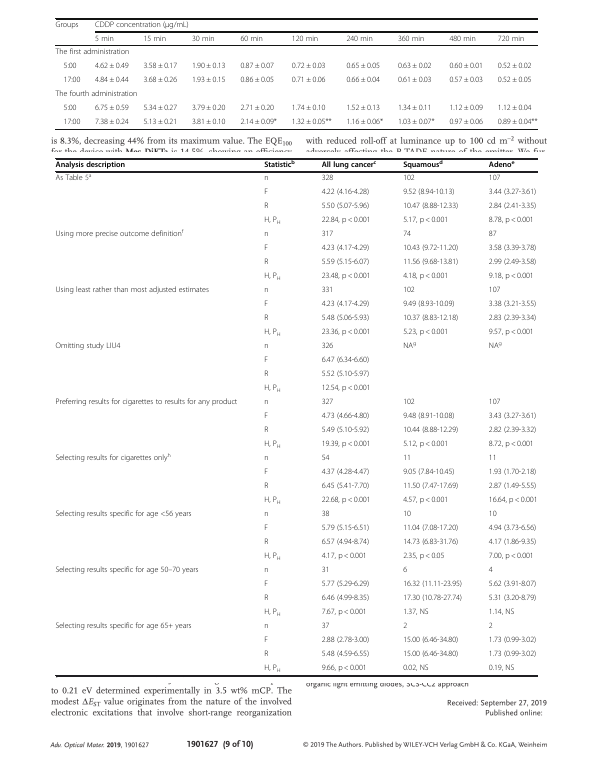borderless: (54, 157, 537, 675), (54, 17, 538, 129)
cell: (55, 398, 238, 408), (55, 286, 210, 296), (55, 228, 184, 240), (55, 566, 199, 576), (55, 452, 172, 464), (55, 510, 192, 520), (55, 622, 192, 632), (94, 21, 190, 30), (55, 89, 138, 99), (55, 47, 130, 57), (55, 342, 121, 352), (55, 161, 126, 170), (321, 159, 377, 170), (402, 580, 463, 590), (402, 594, 463, 604), (402, 202, 459, 212), (402, 244, 459, 254), (402, 258, 459, 268), (402, 314, 459, 324), (402, 426, 459, 436), (402, 482, 459, 492), (402, 524, 459, 534), (402, 538, 459, 548), (402, 636, 459, 646), (402, 650, 459, 660), (402, 188, 455, 198), (402, 300, 455, 310), (402, 412, 455, 422), (402, 468, 455, 478), (321, 216, 371, 226), (321, 272, 371, 282), (321, 328, 371, 338), (321, 384, 371, 394), (321, 440, 371, 450), (321, 496, 371, 506), (488, 496, 538, 506), (321, 188, 370, 198), (488, 188, 537, 198), (321, 202, 370, 212), (488, 202, 537, 212), (321, 244, 370, 254), (488, 244, 537, 254), (321, 258, 370, 268), (488, 258, 537, 268), (321, 300, 370, 310), (488, 300, 537, 310), (321, 314, 370, 324), (488, 314, 537, 324), (321, 356, 370, 366), (321, 370, 370, 380), (321, 412, 370, 422), (488, 412, 537, 422), (321, 426, 370, 436), (488, 426, 537, 436), (321, 468, 370, 478), (488, 468, 537, 478), (321, 482, 370, 492), (488, 482, 537, 492), (321, 524, 370, 534), (488, 524, 537, 534), (321, 538, 370, 548), (488, 538, 537, 548), (321, 580, 370, 590), (488, 580, 537, 590), (321, 594, 370, 604), (488, 594, 537, 604), (321, 636, 370, 646), (488, 636, 537, 646), (321, 650, 370, 660), (488, 650, 537, 660), (402, 216, 449, 226), (488, 216, 535, 226), (402, 272, 449, 282), (488, 272, 535, 282), (402, 328, 449, 338), (488, 328, 535, 338), (402, 440, 449, 450), (488, 440, 535, 450), (402, 496, 449, 506), (321, 552, 368, 562), (488, 552, 535, 562), (321, 608, 368, 618), (321, 664, 368, 674), (402, 159, 444, 170), (55, 172, 92, 184), (402, 552, 445, 562), (291, 117, 332, 127), (497, 117, 538, 127), (239, 117, 278, 127), (345, 117, 384, 127), (397, 117, 435, 127), (263, 159, 296, 170), (94, 61, 130, 71), (142, 61, 178, 71), (239, 61, 275, 71), (345, 61, 381, 71), (448, 61, 484, 71), (94, 75, 130, 85), (142, 75, 178, 85), (239, 75, 275, 85), (345, 75, 381, 85), (448, 75, 484, 85), (94, 103, 130, 113), (142, 103, 178, 113), (239, 103, 275, 113), (345, 103, 381, 113), (448, 103, 484, 113), (94, 117, 130, 127), (142, 117, 178, 127), (448, 117, 484, 127), (191, 61, 226, 71), (291, 61, 326, 71), (397, 61, 432, 71), (497, 61, 532, 71), (191, 75, 226, 85), (291, 75, 326, 85), (397, 75, 432, 85), (497, 75, 532, 85), (191, 103, 226, 113), (291, 103, 326, 113), (397, 103, 432, 113), (497, 103, 532, 113), (191, 117, 226, 127), (488, 159, 515, 170), (402, 608, 429, 618), (488, 608, 515, 618), (402, 664, 429, 674), (488, 664, 515, 674), (345, 34, 374, 43), (448, 34, 477, 43), (291, 34, 319, 43), (397, 34, 425, 43), (497, 34, 525, 43), (142, 34, 167, 43), (239, 34, 264, 43), (55, 21, 79, 30), (191, 34, 215, 43), (263, 216, 282, 226), (263, 272, 282, 282), (263, 328, 282, 338), (263, 384, 282, 394), (263, 440, 282, 450), (263, 496, 282, 506), (263, 552, 282, 562), (263, 608, 282, 618), (263, 664, 282, 674), (62, 75, 81, 85), (62, 117, 81, 127), (94, 34, 115, 43), (402, 340, 417, 352), (488, 340, 503, 352), (62, 61, 77, 71), (62, 103, 77, 113), (402, 174, 416, 184), (402, 286, 416, 296), (402, 398, 416, 408), (321, 174, 334, 184), (488, 174, 501, 184), (321, 230, 334, 240), (321, 286, 334, 296), (488, 286, 501, 296), (321, 342, 334, 352), (321, 398, 334, 408), (488, 398, 501, 408), (402, 230, 412, 240), (402, 454, 412, 464), (402, 510, 412, 520), (488, 230, 497, 240), (321, 454, 330, 464), (488, 454, 497, 464), (321, 510, 330, 520), (488, 510, 497, 520), (321, 566, 330, 576), (321, 622, 330, 632), (263, 174, 269, 184), (263, 188, 269, 198), (263, 202, 269, 212), (263, 230, 269, 240), (263, 244, 269, 254), (263, 258, 269, 268), (263, 286, 269, 296), (263, 300, 269, 310), (263, 314, 269, 324), (263, 342, 269, 352), (263, 356, 269, 366), (263, 370, 269, 380), (263, 398, 269, 408), (263, 412, 269, 422), (263, 426, 269, 436), (263, 454, 269, 464), (263, 468, 269, 478), (263, 482, 269, 492), (263, 510, 269, 520), (263, 524, 269, 534), (263, 538, 269, 548), (263, 566, 269, 576), (402, 566, 408, 576), (488, 566, 494, 576), (263, 580, 269, 590), (263, 594, 269, 604), (263, 622, 269, 632), (402, 622, 408, 632), (488, 622, 494, 632), (263, 636, 269, 646), (263, 650, 269, 660)
